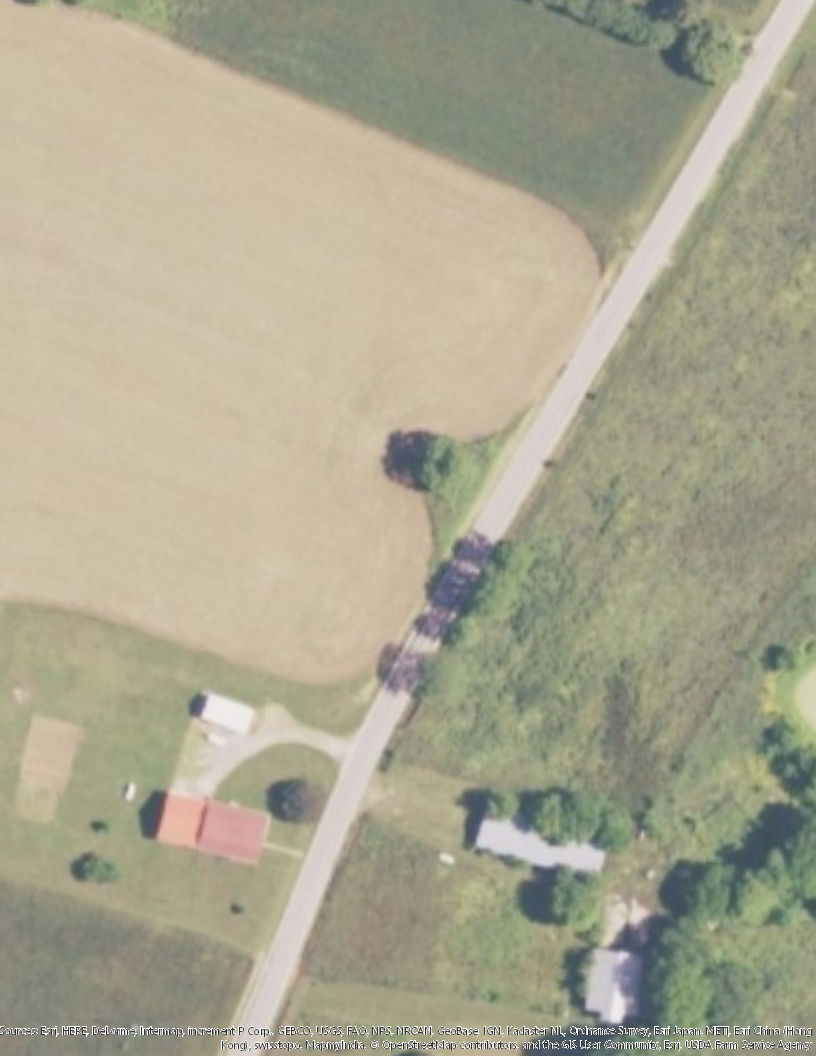cafo: (461, 786, 619, 893)
